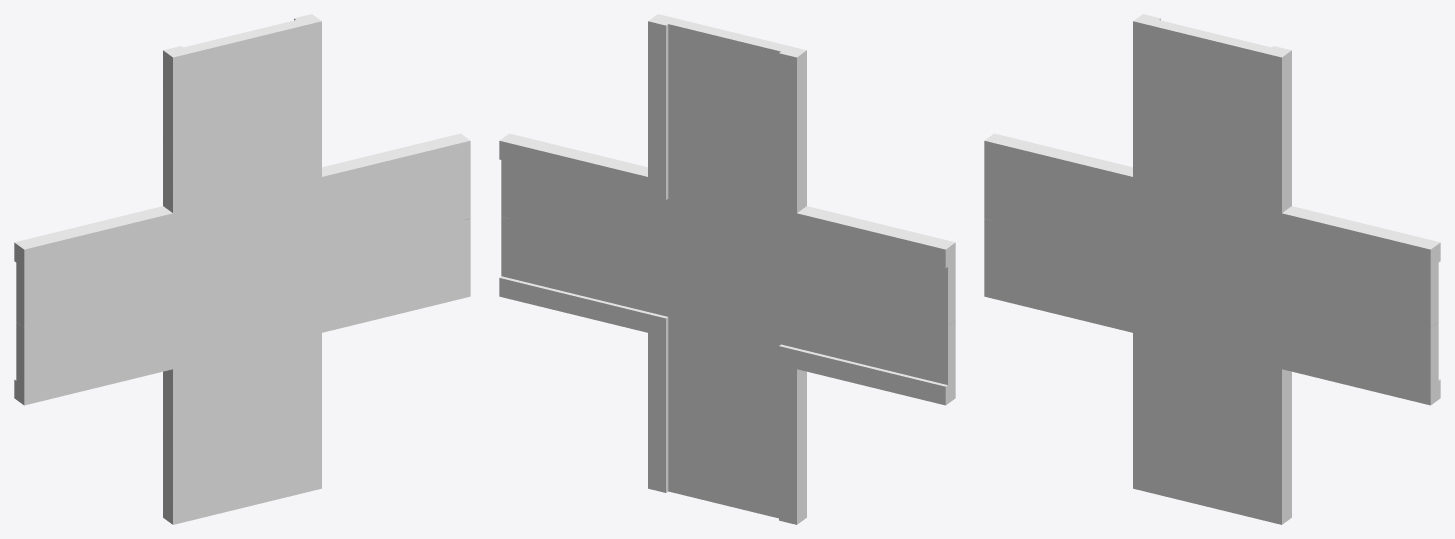
File: venice_road_4.fbx
3 views of the same model, side by side, from view 1: azimuth 30°, elevation 25°; view 2: azimuth 150°, elevation 25°; view 3: azimuth 330°, elevation 25° (orthographic).
Visible parts, largest first — view 1: Cube.297; view 2: Cube.297; view 3: Cube.297.
Boxes of the visible parts, <box> form: Cube.297: <box>14,14,470,524</box>; Cube.297: <box>499,14,955,524</box>; Cube.297: <box>984,14,1440,524</box>.
Bounding box in the file's own units: 1651 × 1652 × 63.5.
